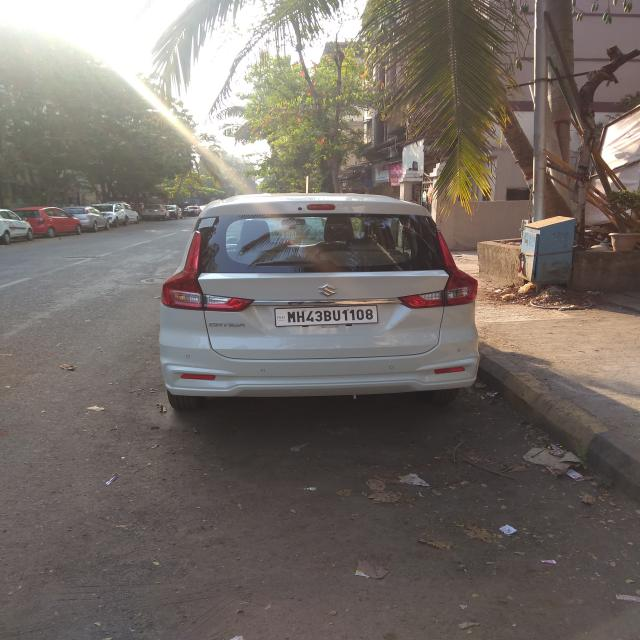Number-Plate: (278, 304, 375, 326)
